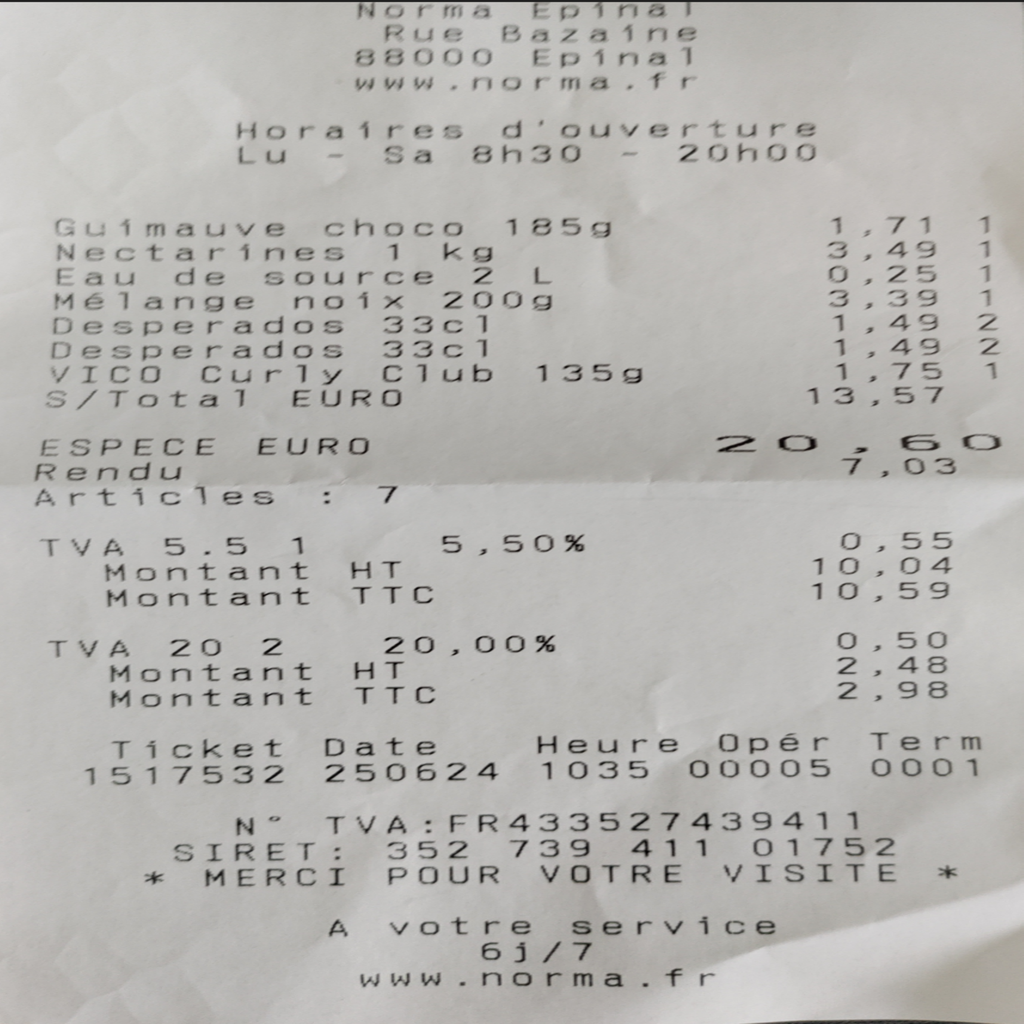recipt: (6, 4, 1022, 1022)
